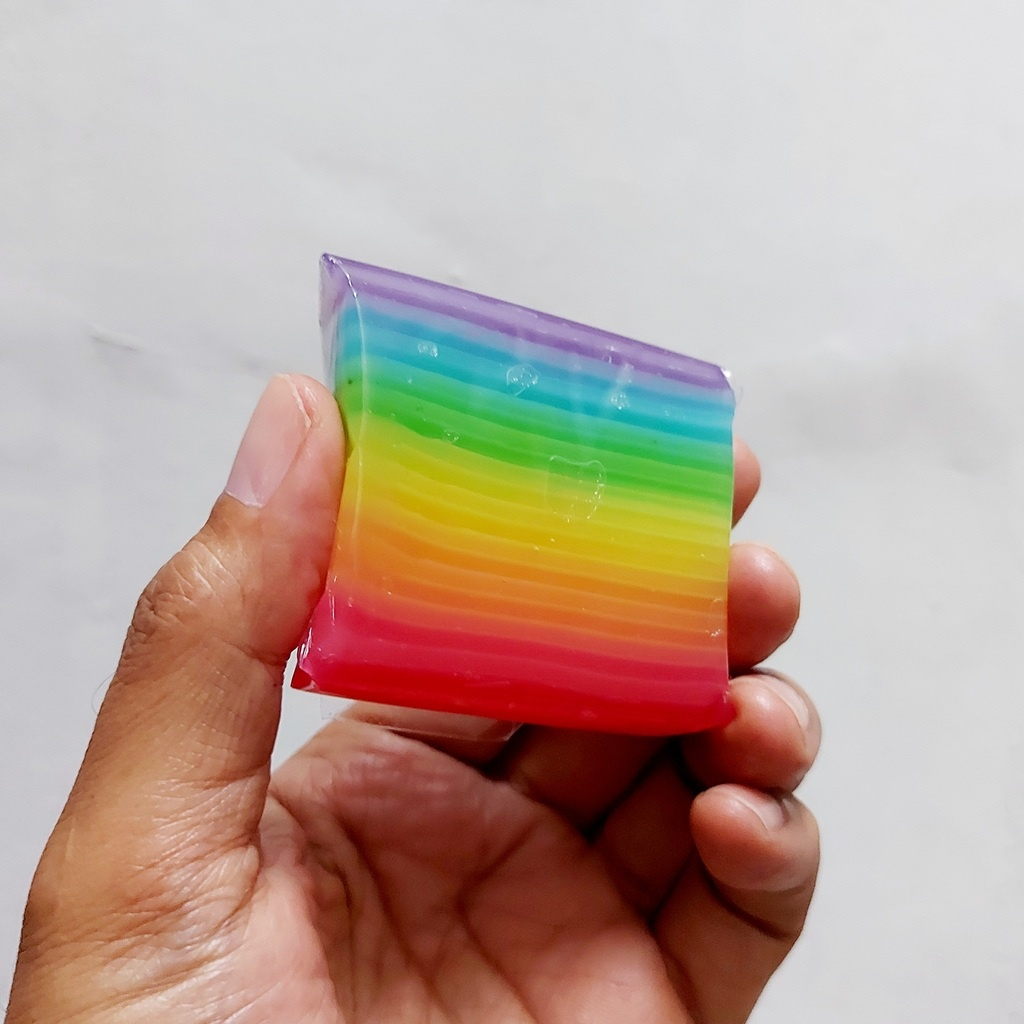kue_lapis_pelangi: (286, 252, 746, 736)
